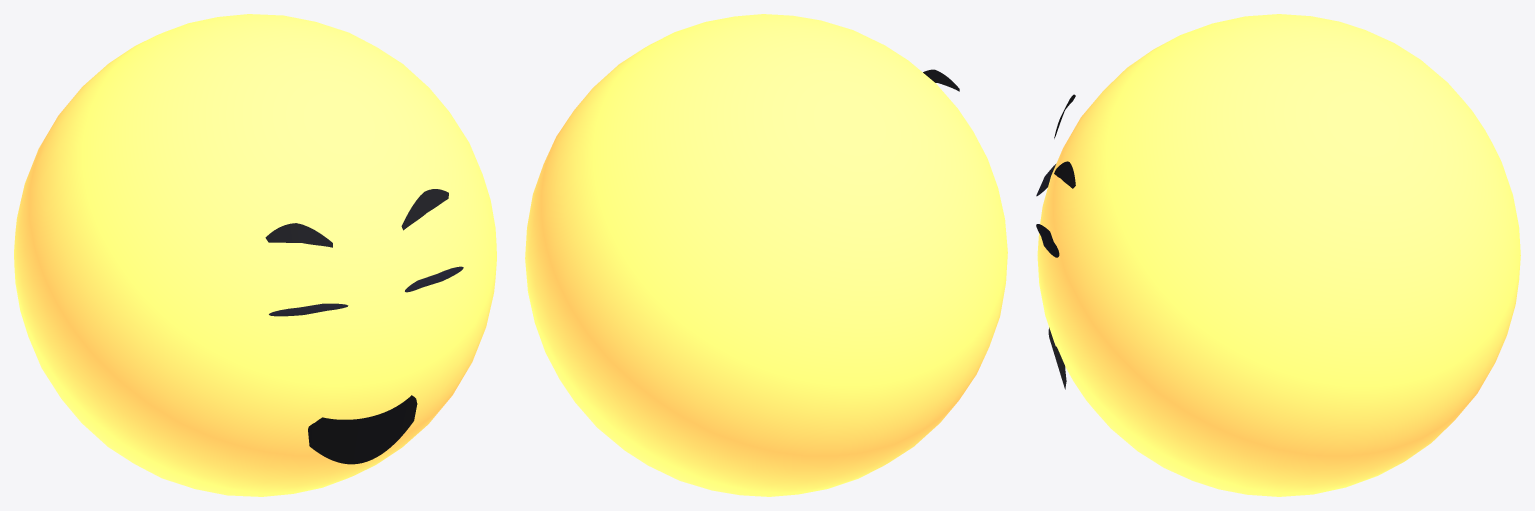
Rendered from orb.glb.
3 views of the same model, side by side, from view 1: azimuth 30°, elevation 25°; view 2: azimuth 150°, elevation 25°; view 3: azimuth 270°, elevation 25° (orthographic).
Parts seen in each view (by area): view 1: Orb2; view 2: Orb2; view 3: Orb2.
Part boxes in pixels (x1=…): Orb2: x1=14, y1=14, x2=496, y2=496; Orb2: x1=525, y1=14, x2=1007, y2=496; Orb2: x1=1036, y1=14, x2=1520, y2=496.
Size of the model in its own units: 1.95 by 1.95 by 1.96.
